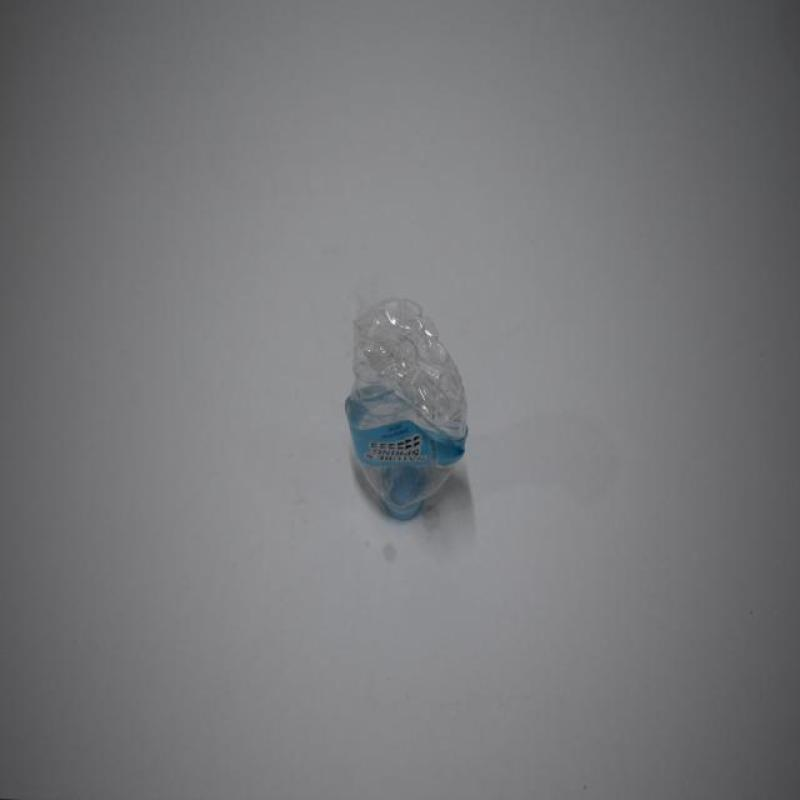botella: (346, 302, 470, 522)
